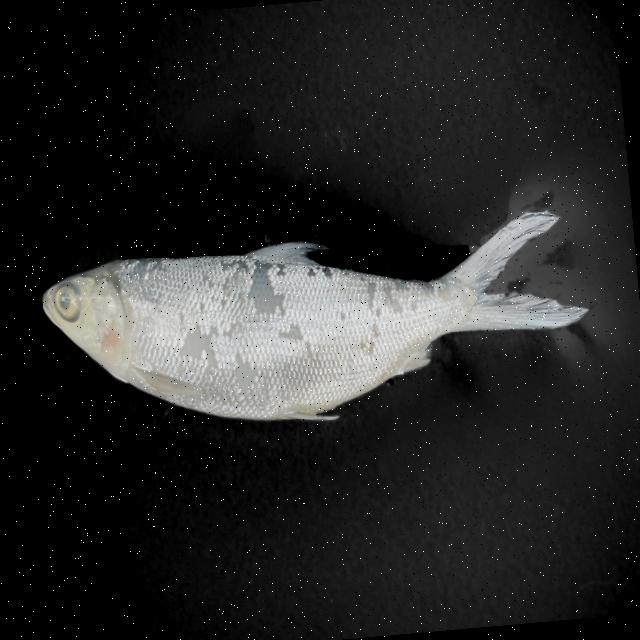550 g: (38, 206, 596, 443)
